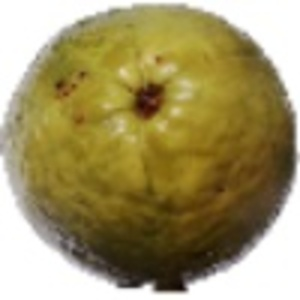goiaba: (3, 8, 295, 281)
